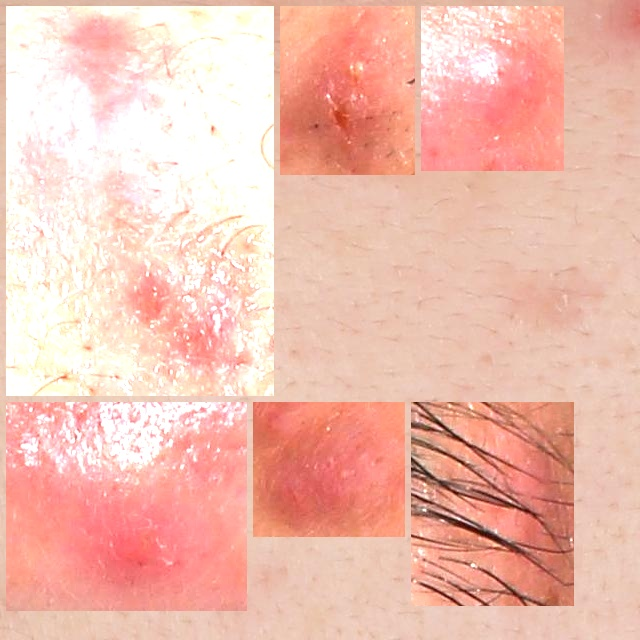nodule: (14, 14, 266, 388), (14, 410, 239, 603), (419, 410, 566, 598), (429, 14, 556, 163), (288, 14, 407, 167), (261, 410, 397, 529)
